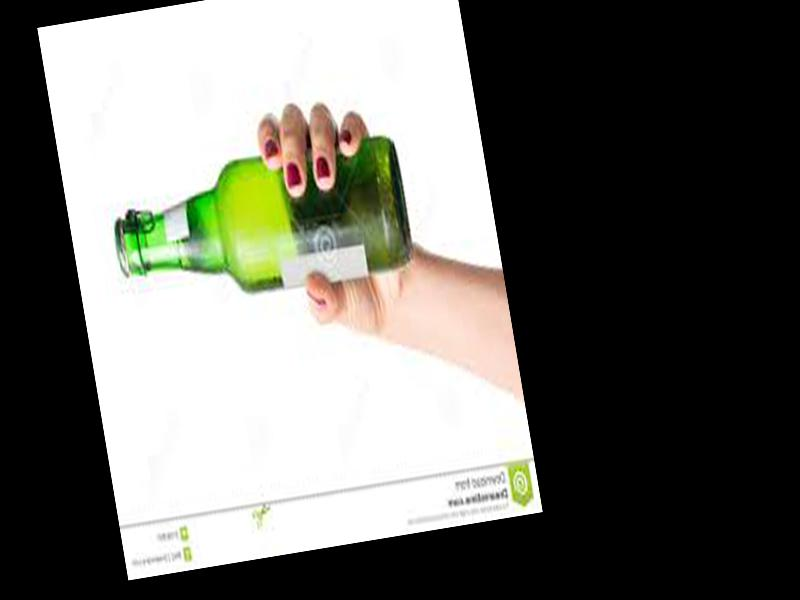Beer: (103, 133, 417, 319)
